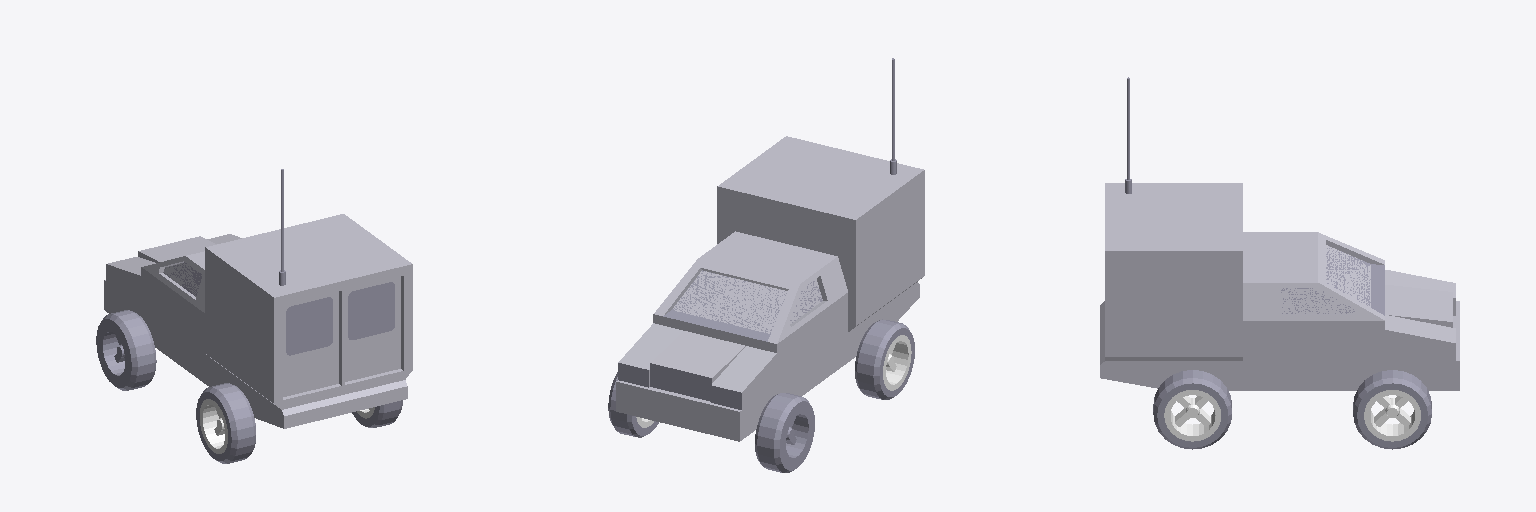
Rendered from airlineTruck.obj.
The picture shows the model from 3 angles: view 1: azimuth 30°, elevation 25°; view 2: azimuth 150°, elevation 25°; view 3: azimuth 270°, elevation 25°; orthographic projection.
Bounding box in the file's own units: 1.39 × 2.38 × 2.52.